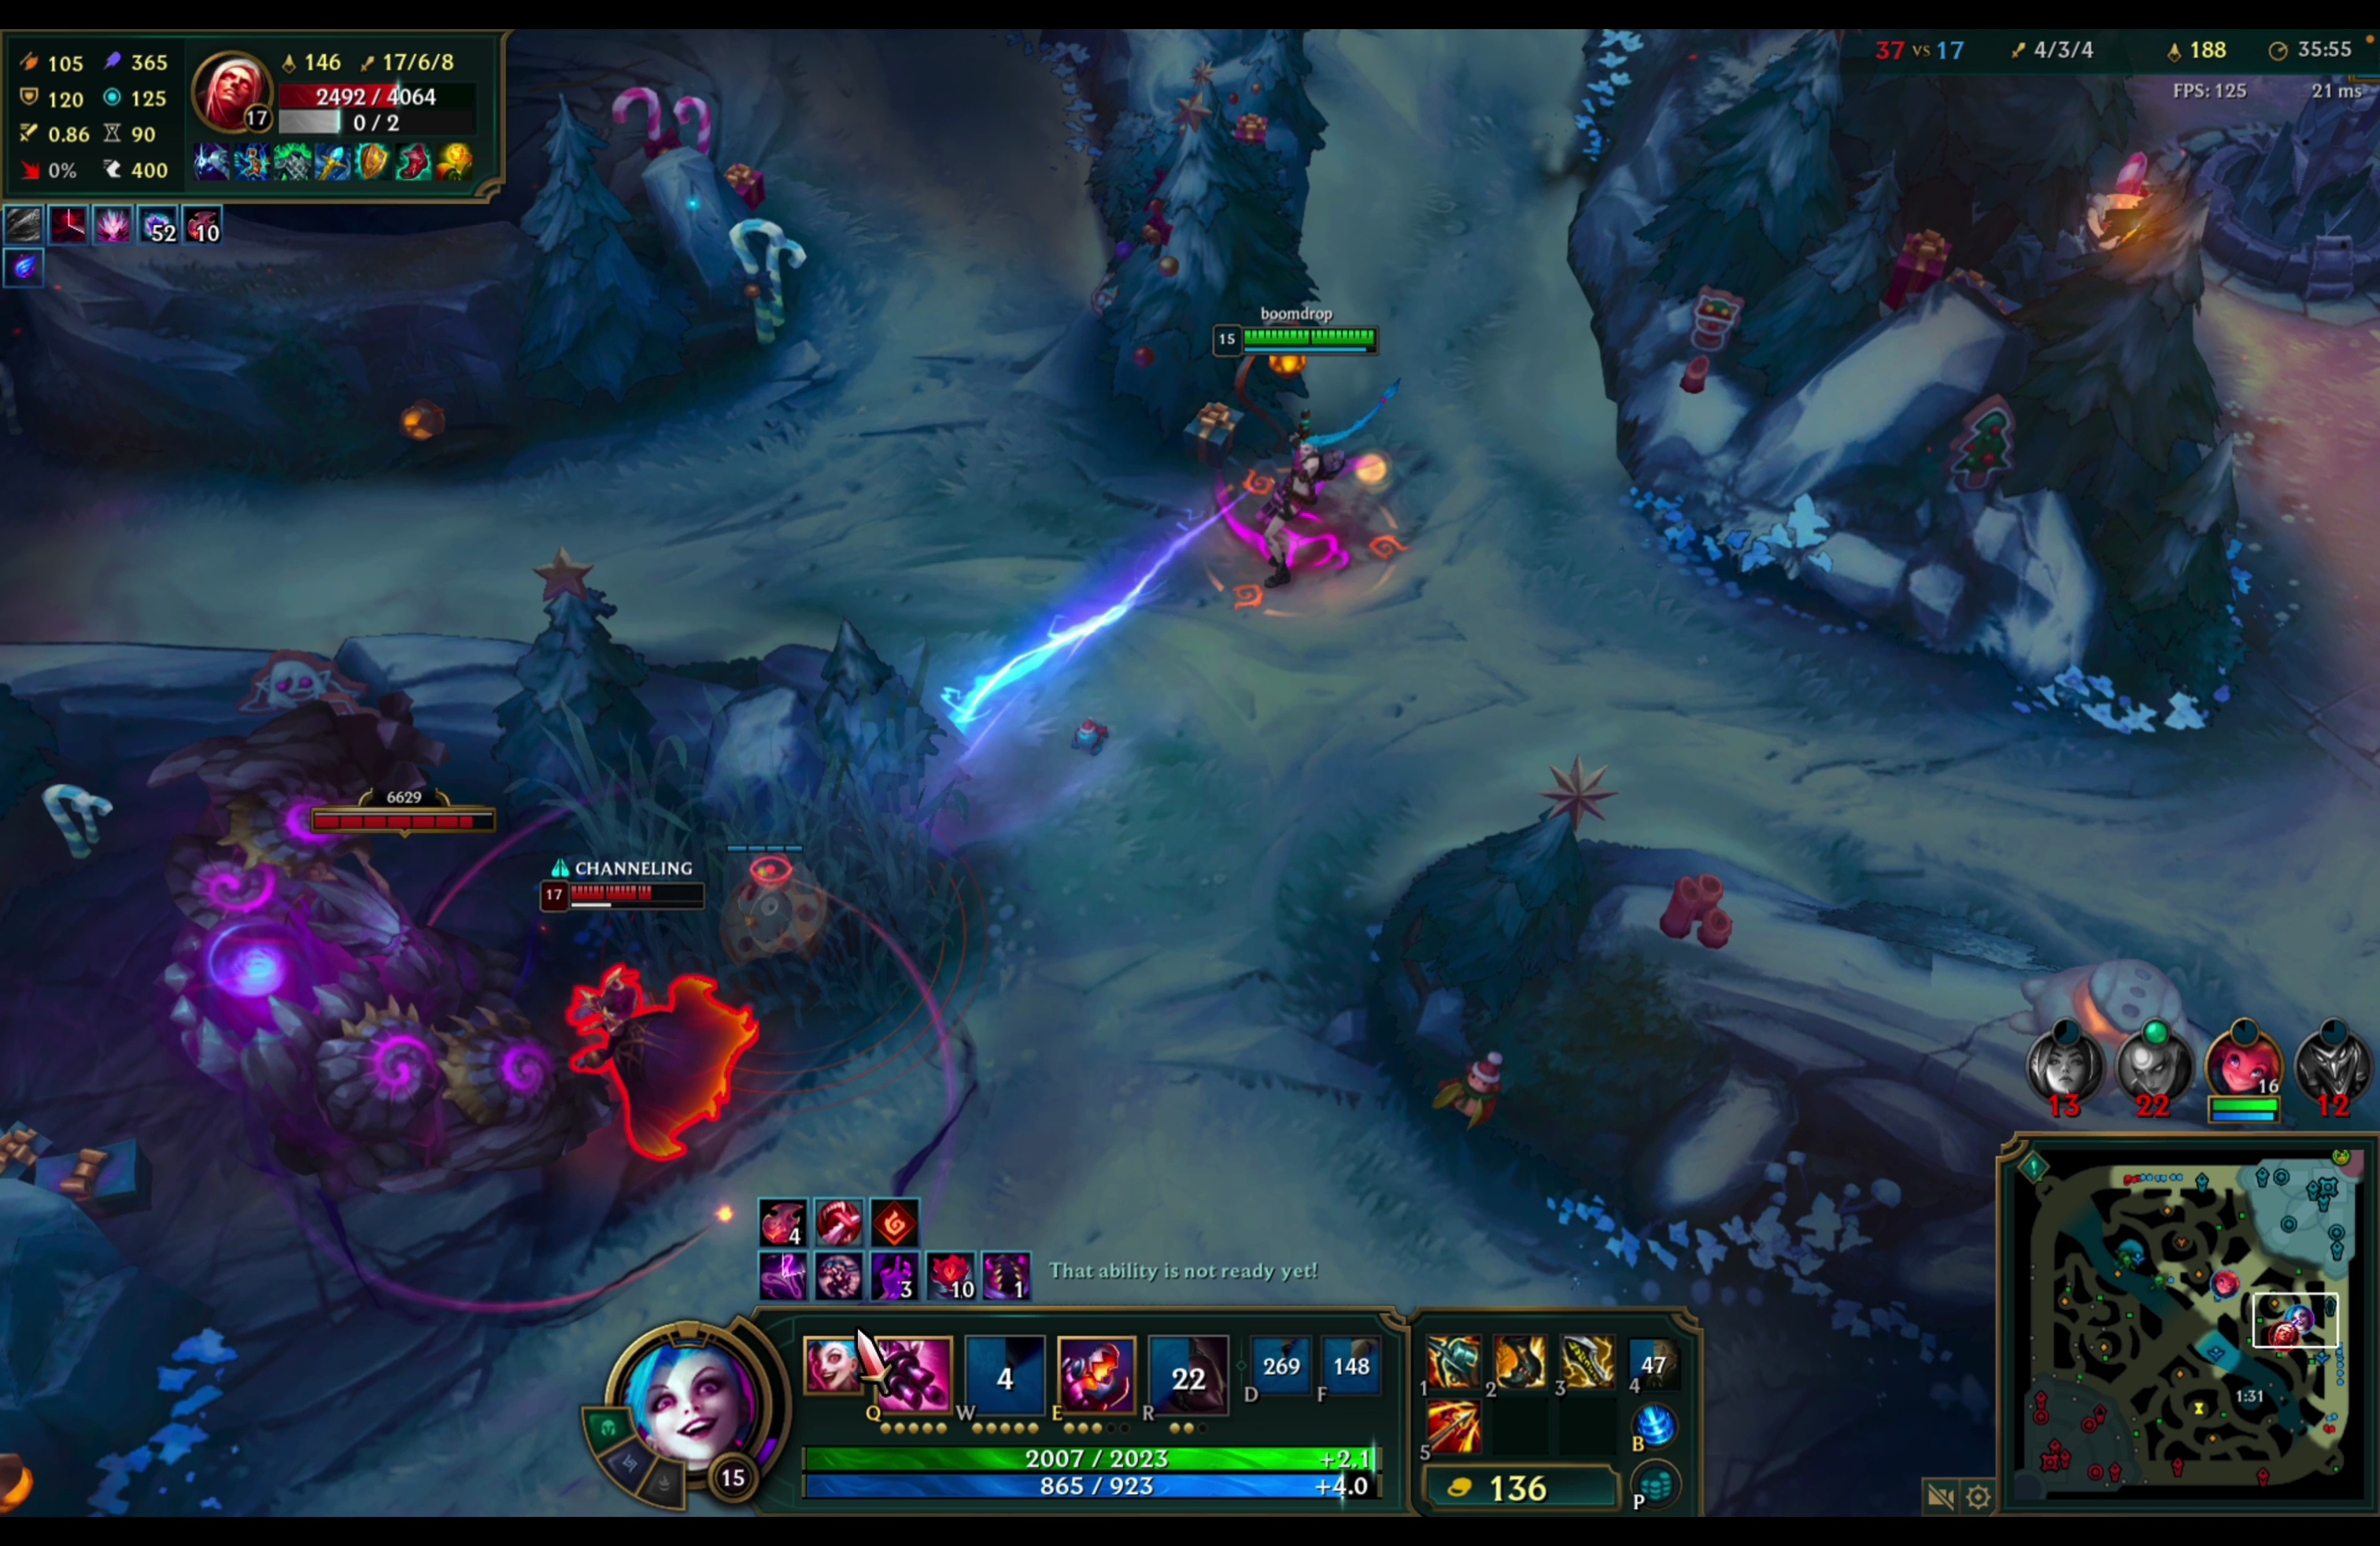JINX_W_PROJECTILE: (928, 298, 1435, 751)
